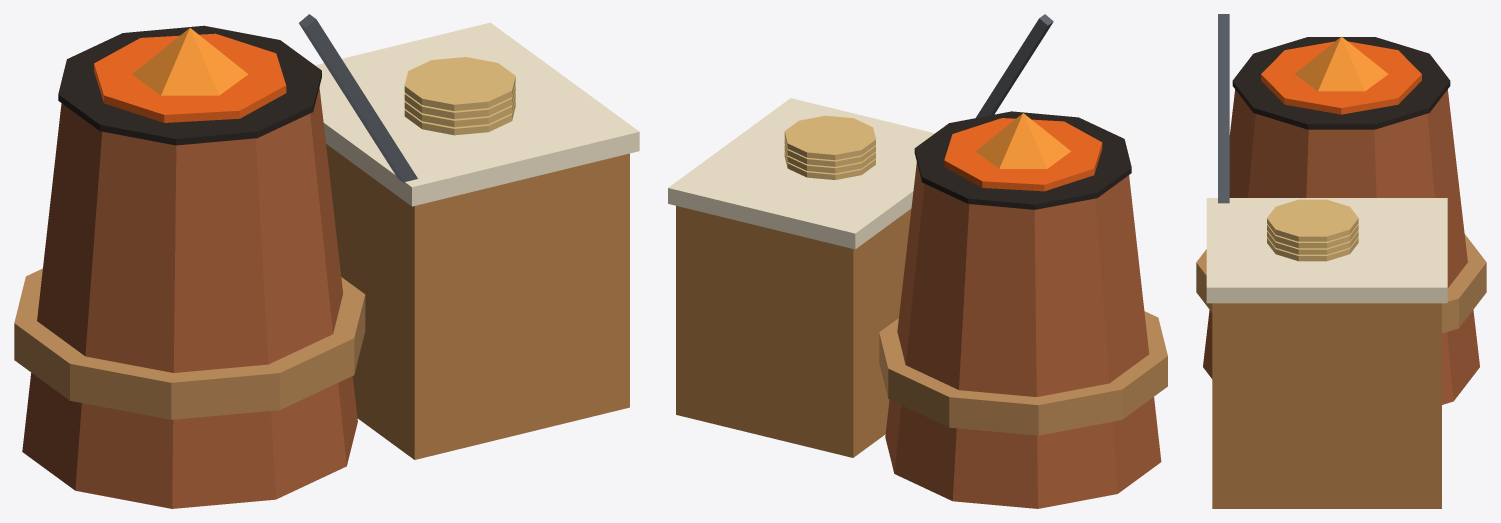
The model's file is station_tandoor.glb.
3 renders of one model, left to right at view 1: azimuth 30°, elevation 25°; view 2: azimuth 150°, elevation 25°; view 3: azimuth 270°, elevation 25°, orthographic. The views are drawn at different scales.
Parts seen in each view (by area): view 1: station_tandoor; view 2: station_tandoor; view 3: station_tandoor.
Part boxes in pixels (x1,y1,x2,y2): station_tandoor: [14, 14, 639, 508]; station_tandoor: [668, 14, 1167, 508]; station_tandoor: [1196, 14, 1486, 508].
Size of the model in its own units: 1.67 by 1.43 by 1.01.
Materials: 1 (1 with a texture image).
